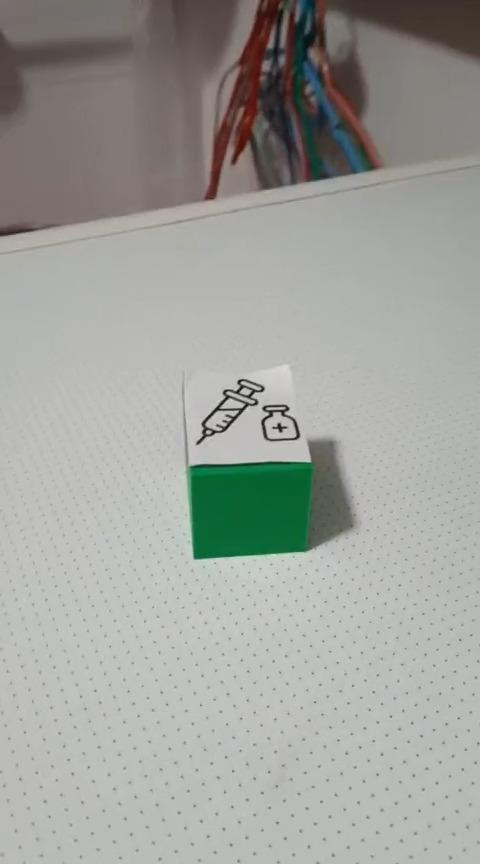antiseptic cream: (179, 362, 315, 559)
